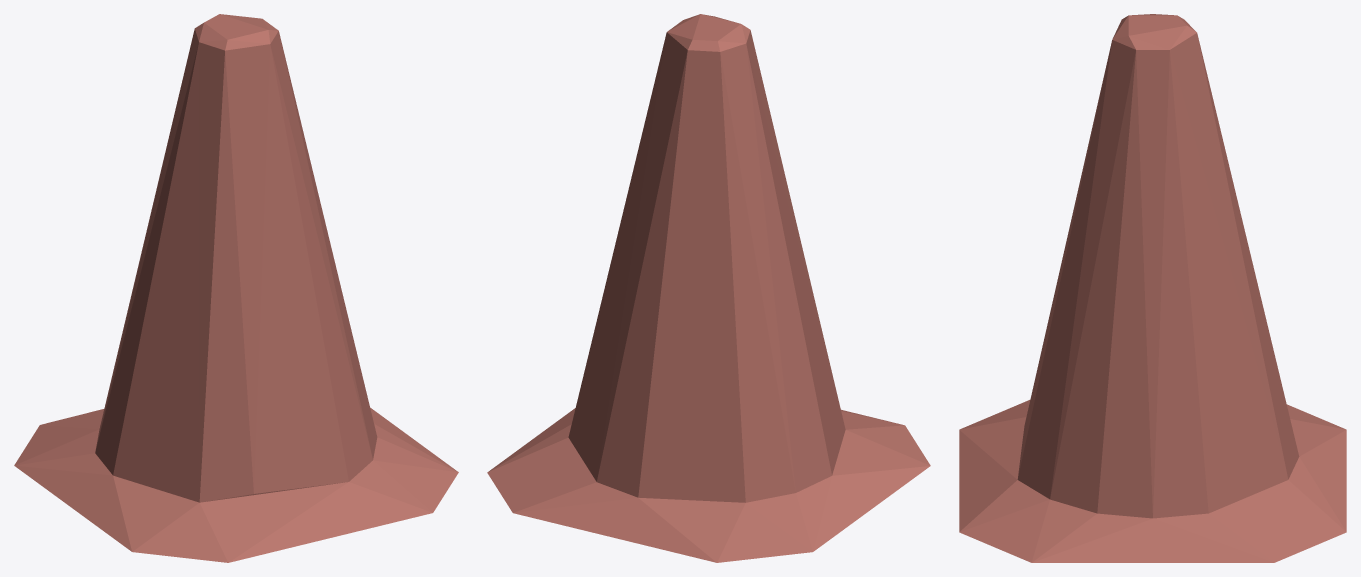
3 renders of one model, left to right at view 1: azimuth 30°, elevation 25°; view 2: azimuth 150°, elevation 25°; view 3: azimuth 270°, elevation 25°, orthographic. The views are drawn at different scales.
Visible parts, largest first — view 1: Object_3; view 2: Object_3; view 3: Object_3.
Part boxes in pixels (x1,y1,x2,y2): Object_3: (14, 14, 458, 562); Object_3: (487, 14, 930, 562); Object_3: (959, 14, 1346, 562).
Bounding box in the file's own units: 0.3538 × 0.4581 × 0.3535.
